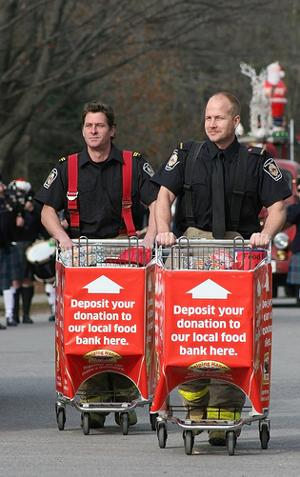person: (156, 89, 290, 444)
